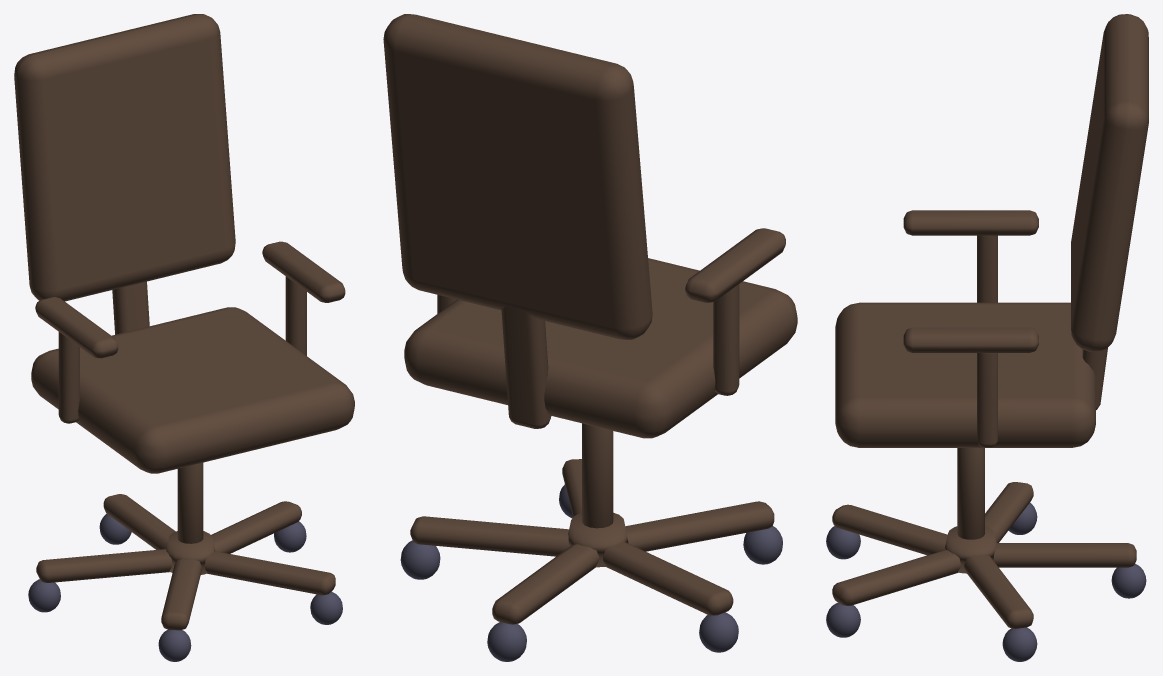
The model's file is chair.glb.
The picture shows the model from 3 angles, left to right: view 1: azimuth 30°, elevation 25°; view 2: azimuth 150°, elevation 25°; view 3: azimuth 270°, elevation 25°; orthographic projection. The views are drawn at different scales.
Visible parts, largest first — view 1: chair; view 2: chair; view 3: chair.
Boxes of the visible parts, x1,y1,x2,y2 form: chair: (14, 14, 354, 661); chair: (383, 14, 797, 661); chair: (826, 14, 1148, 661).
Size of the model in its own units: 0.6156 by 1.09 by 0.5932.
